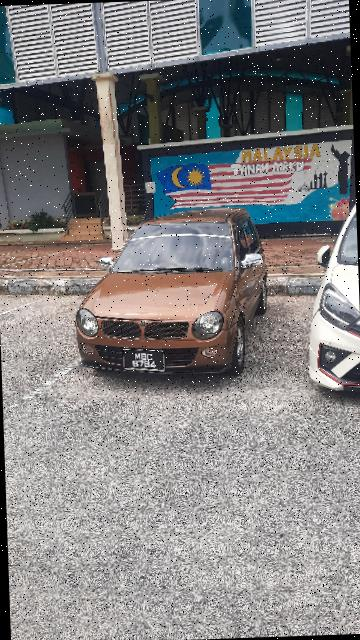License_Plate: (118, 342, 171, 378)
car: (66, 207, 280, 391)
